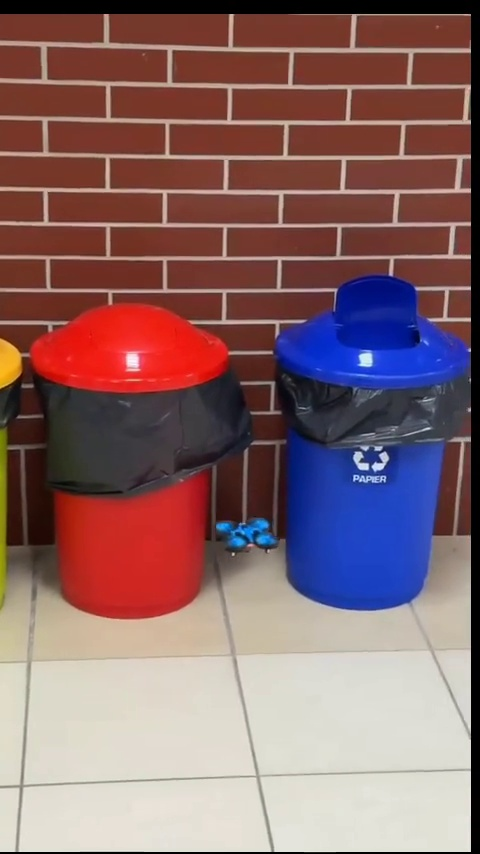drone: (216, 518, 275, 559)
